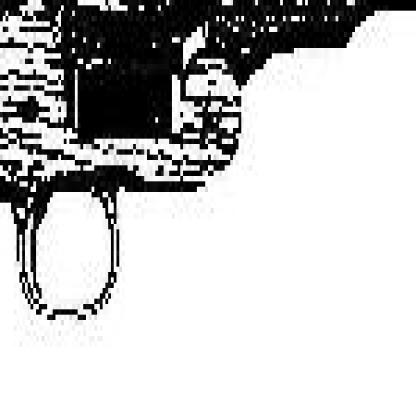gun: (0, 0, 413, 411)
